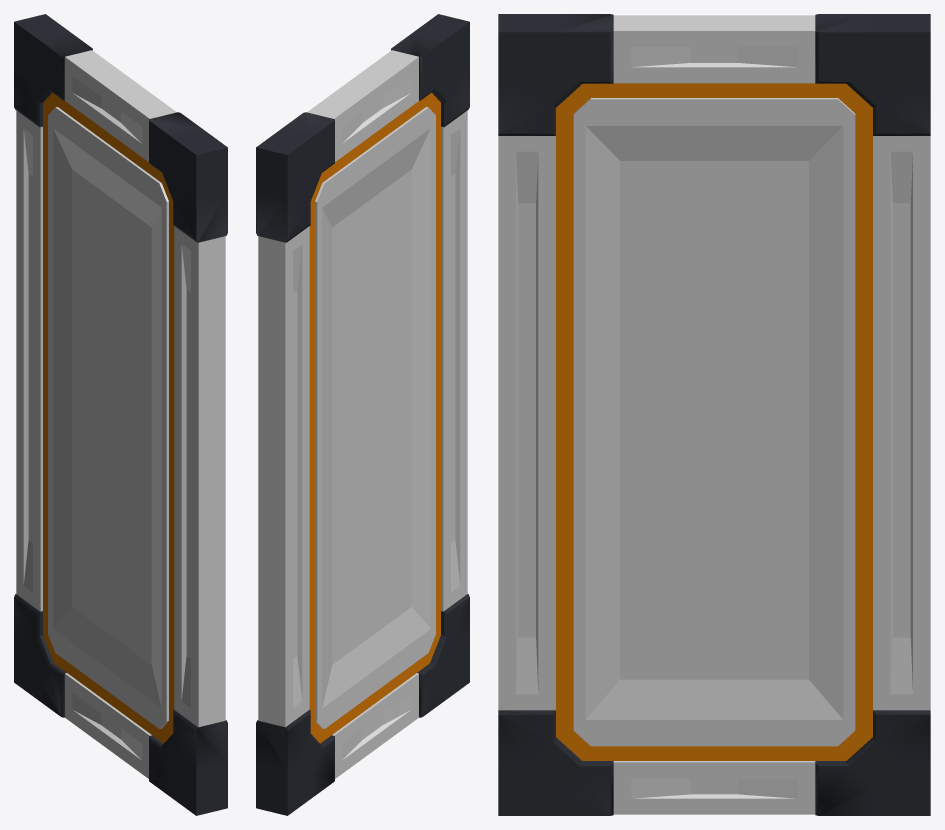
Rendered from SM_WallPanel_Low_Solid.fbx.
3 views of the same model, side by side, from view 1: azimuth 30°, elevation 25°; view 2: azimuth 150°, elevation 25°; view 3: azimuth 270°, elevation 25° (orthographic). The views are drawn at different scales.
Parts seen in each view (by area): view 1: SM_WallPanel_Low_Solid.001; view 2: SM_WallPanel_Low_Solid.001; view 3: SM_WallPanel_Low_Solid.001.
Part boxes in pixels (x1,y1,x2,y2): SM_WallPanel_Low_Solid.001: (14, 14, 227, 815); SM_WallPanel_Low_Solid.001: (256, 14, 469, 815); SM_WallPanel_Low_Solid.001: (498, 14, 930, 815).
Bounding box in the file's own units: 10 × 200 × 100.
